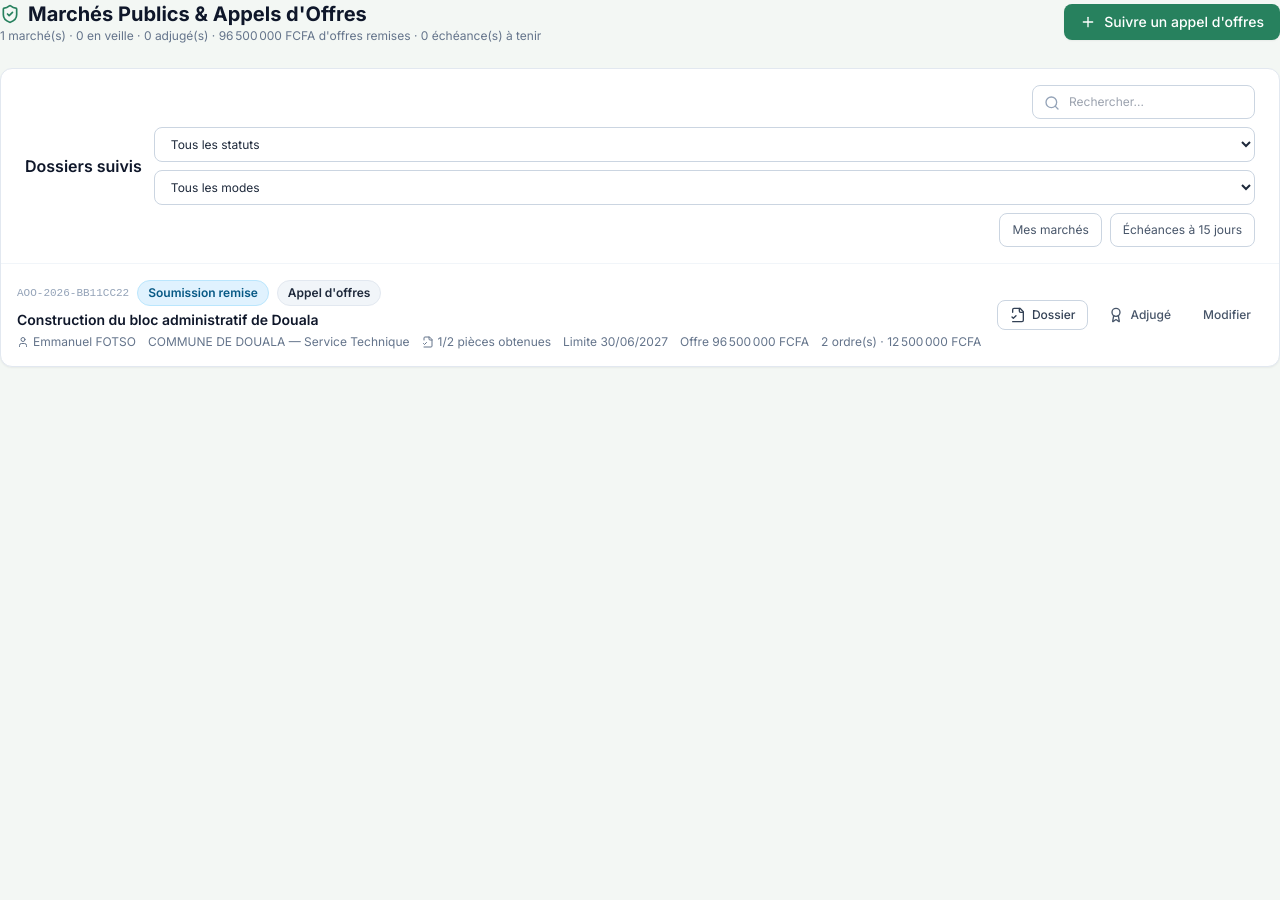
Scenario: TendersPage en mode connecté › charge les marchés, les pièces du dossier et les ordres depuis Supabase
expect the text "AOO-2026-BB11CC22" is shown: met, box [17, 285, 129, 301]
expect the text "Construction du bloc administratif de Douala" is shown: met, box [17, 311, 318, 328]
What coordinates should you click on to do the following:
click the button "Dossier"
I would click on:
 (1043, 315)
Its box is [997, 300, 1088, 330].
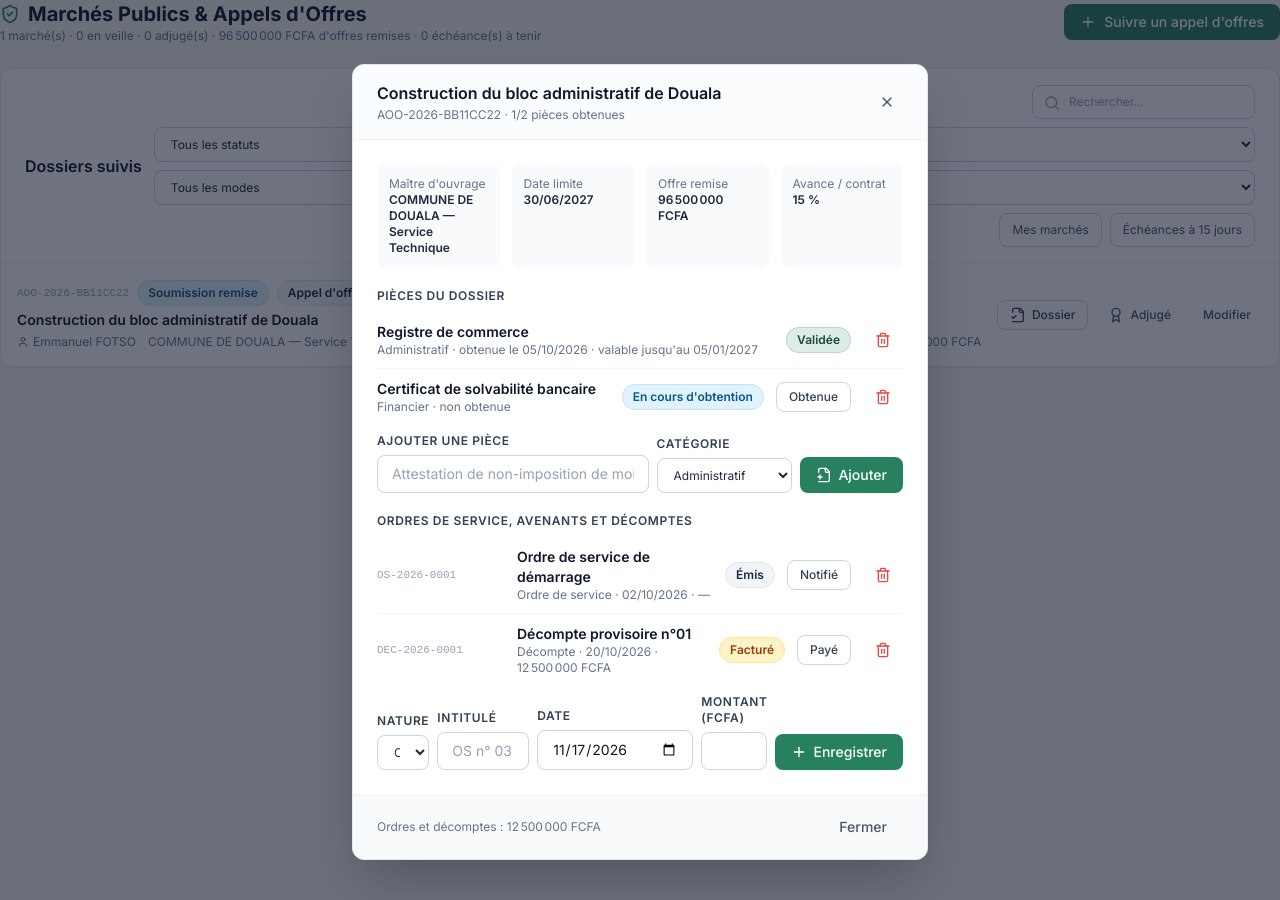
expect the text "Registre de commerce" is shown: met, box [377, 323, 529, 340]
expect the text "obtenue le 05/10/2026" is shown: met, box [459, 342, 588, 357]
expect the heading "Ordres de service, avenants et décomptes" is shown: met, box [377, 513, 692, 528]
